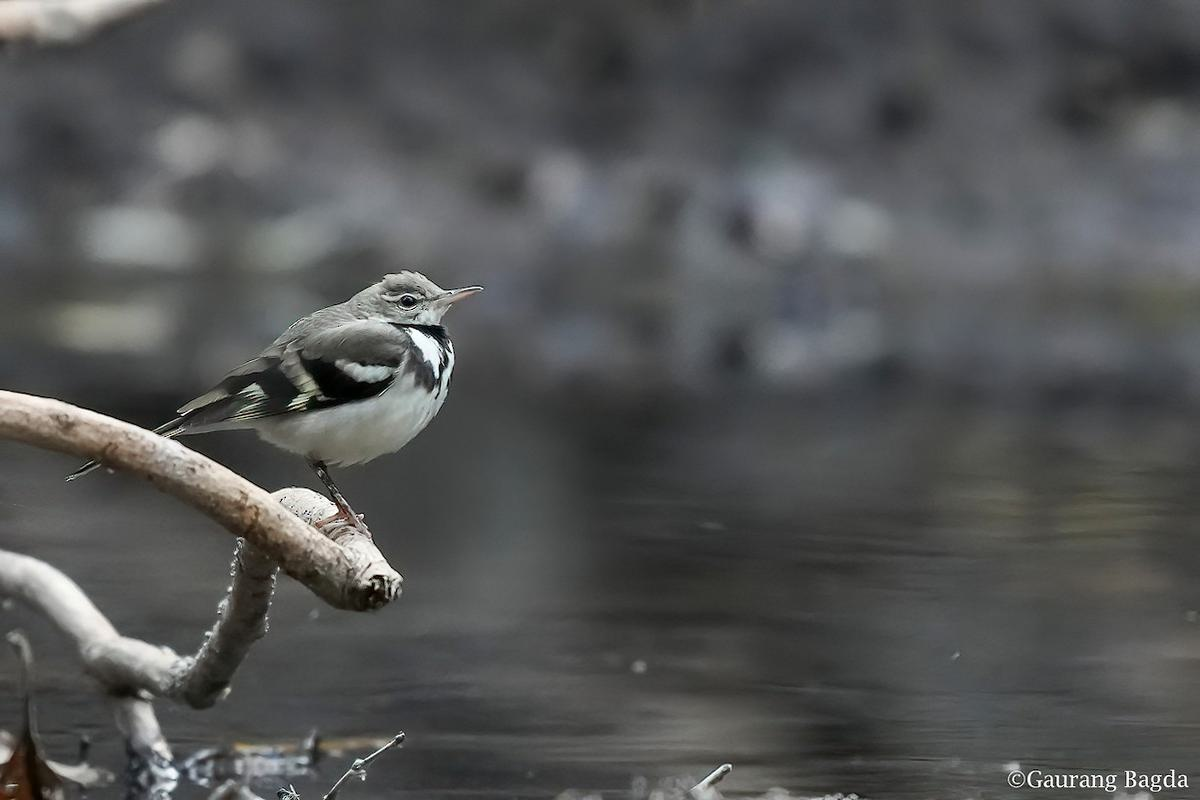wagtail: (127, 236, 498, 525)
